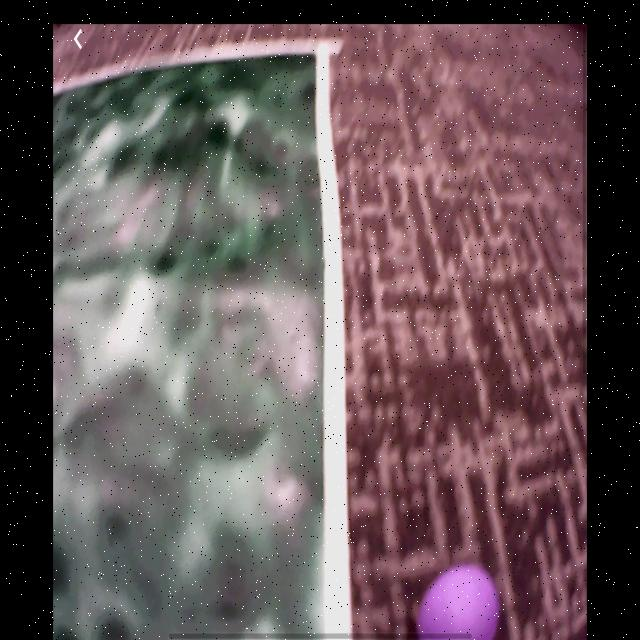ball: (418, 570, 499, 640)
